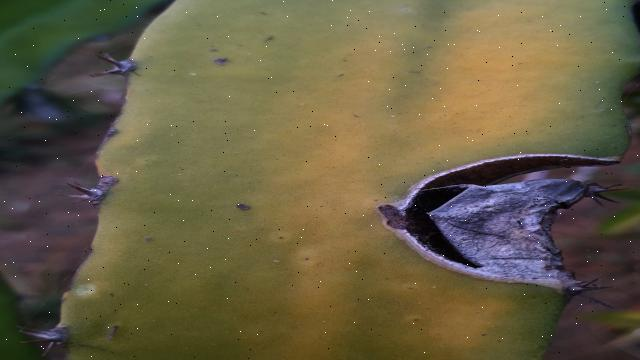stemcanker: (243, 29, 283, 61), (220, 195, 260, 227), (202, 49, 242, 81), (103, 111, 134, 143)
